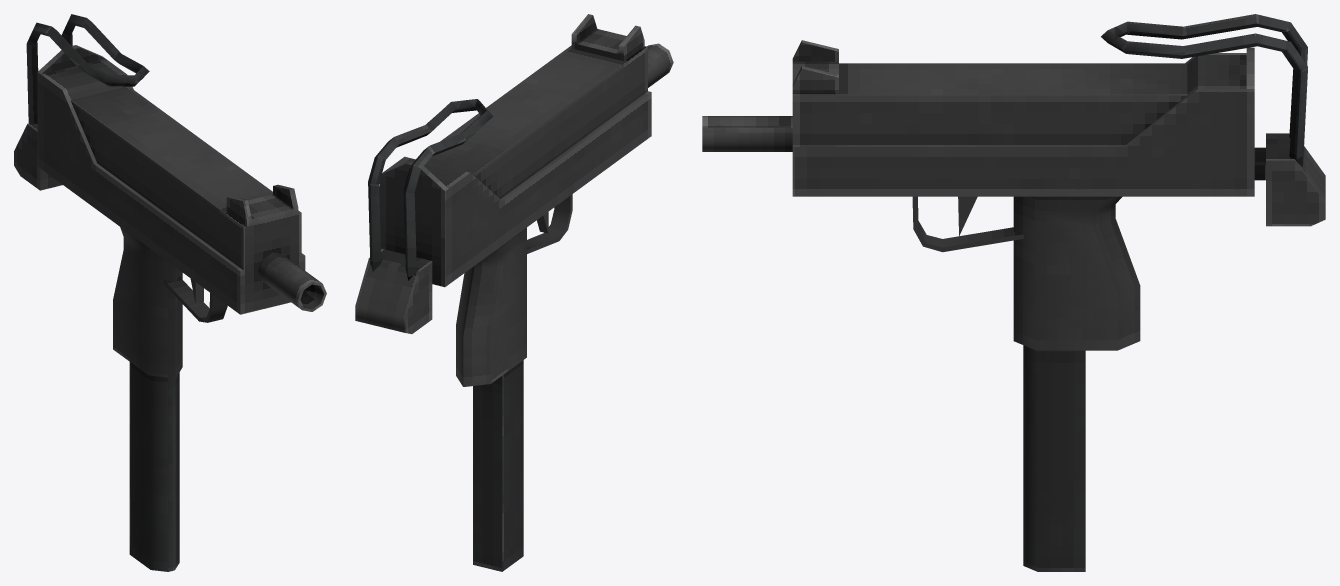
Rendered from Mac10.fbx.
3 renders of one model, left to right at view 1: azimuth 30°, elevation 25°; view 2: azimuth 150°, elevation 25°; view 3: azimuth 270°, elevation 25°, orthographic. The views are drawn at different scales.
Parts seen in each view (by area): view 1: Mac10; view 2: Mac10; view 3: Mac10.
Part boxes in pixels (bbox=[...]): Mac10: bbox=[14, 14, 326, 571]; Mac10: bbox=[355, 14, 673, 571]; Mac10: bbox=[702, 14, 1325, 571].
Bounding box in the file's own units: 5.19 × 36.33 × 37.98.
1 material, 1 textured.
